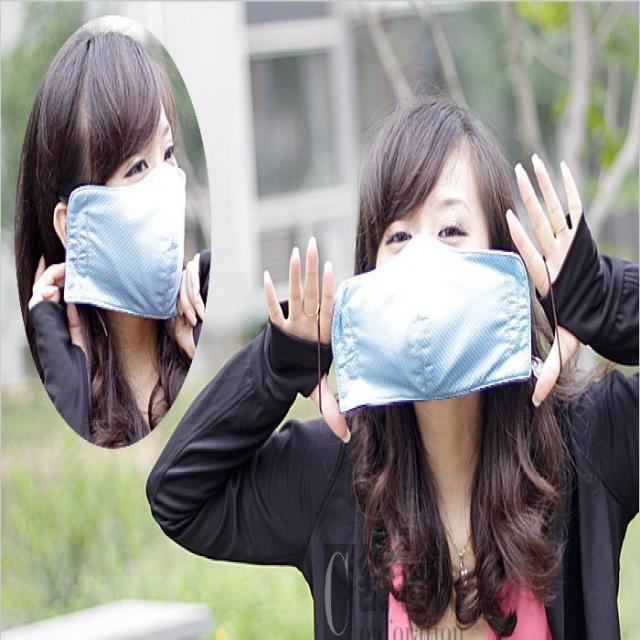mask: (378, 156, 482, 388), (95, 92, 183, 320)
